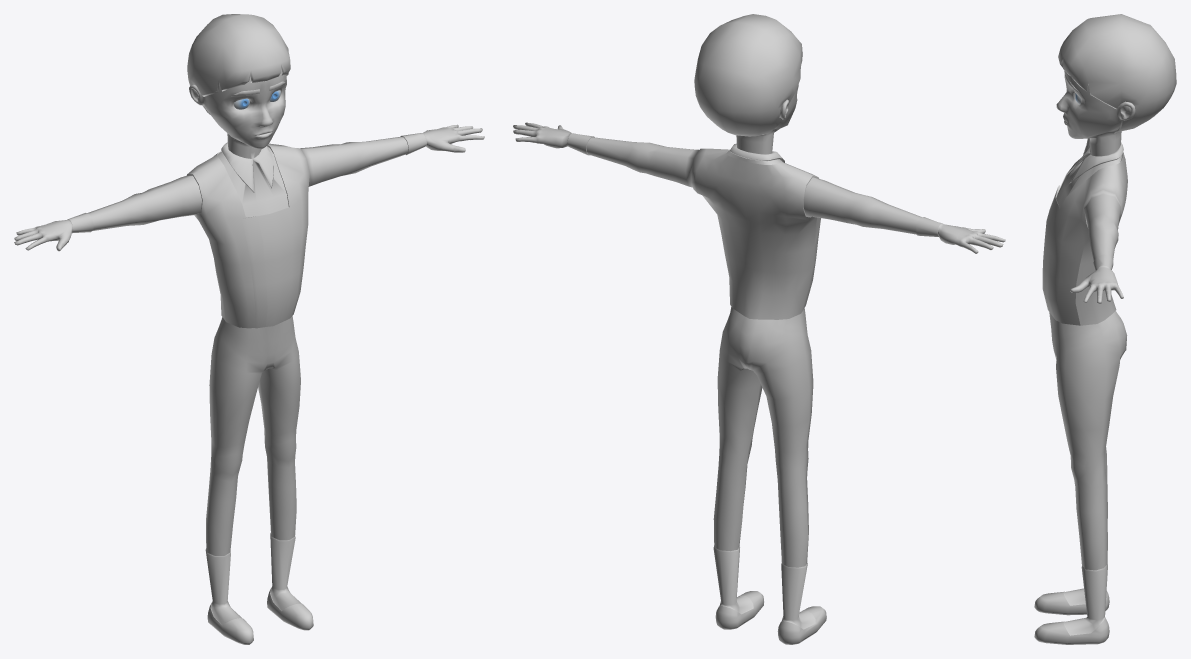
The model's file is ollie.FBX.
3 renders of one model, left to right at view 1: azimuth 30°, elevation 25°; view 2: azimuth 150°, elevation 25°; view 3: azimuth 270°, elevation 25°, orthographic. The views are drawn at different scales.
Visible parts, largest first — view 1: oliver_body_and_head, oliver_hair; view 2: oliver_body_and_head, oliver_hair; view 3: oliver_body_and_head, oliver_hair.
Boxes of the visible parts, x1=… form: oliver_body_and_head: x1=14, y1=68, x2=484, y2=644; oliver_hair: x1=187, y1=14, x2=290, y2=114; oliver_body_and_head: x1=513, y1=84, x2=1005, y2=644; oliver_hair: x1=694, y1=14, x2=802, y2=136; oliver_body_and_head: x1=1034, y1=70, x2=1135, y2=644; oliver_hair: x1=1058, y1=14, x2=1176, y2=133.
Size of the model in its own units: 1.15 by 1.39 by 0.2956.
